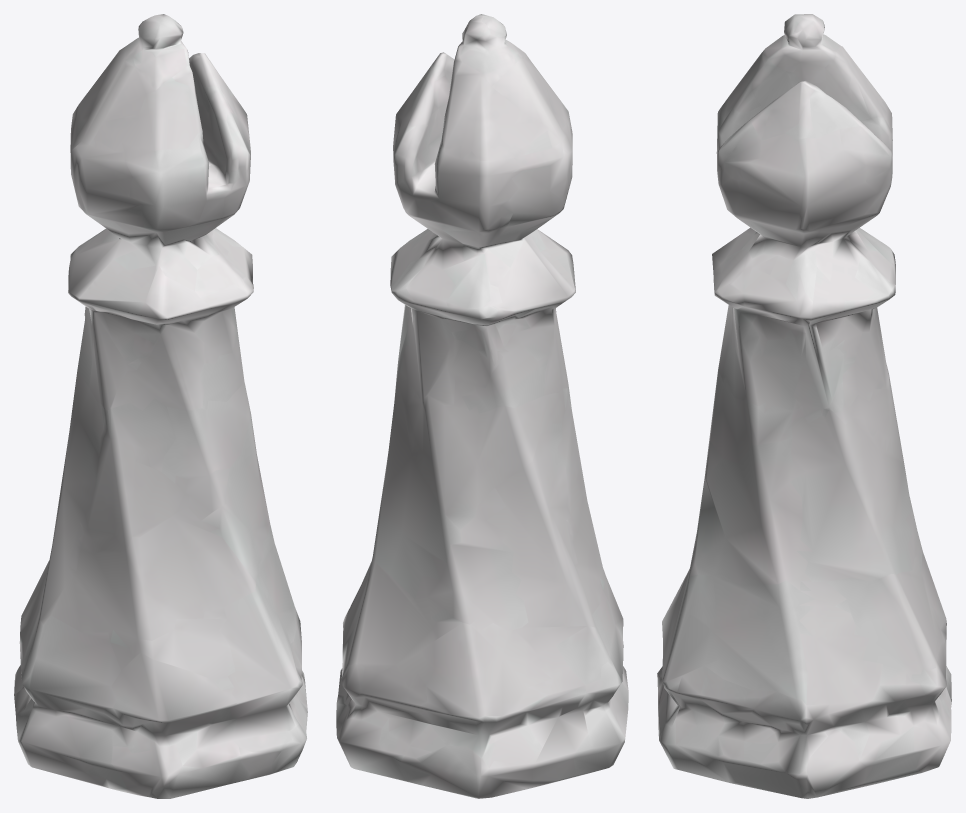
Rendered from hexa_bishop_white.glb.
3 views of the same model, side by side, from view 1: azimuth 30°, elevation 25°; view 2: azimuth 150°, elevation 25°; view 3: azimuth 270°, elevation 25° (orthographic).
Bounding box in the file's own units: 0.8214 × 2 × 0.7413.
Materials: 1 (1 with a texture image).
